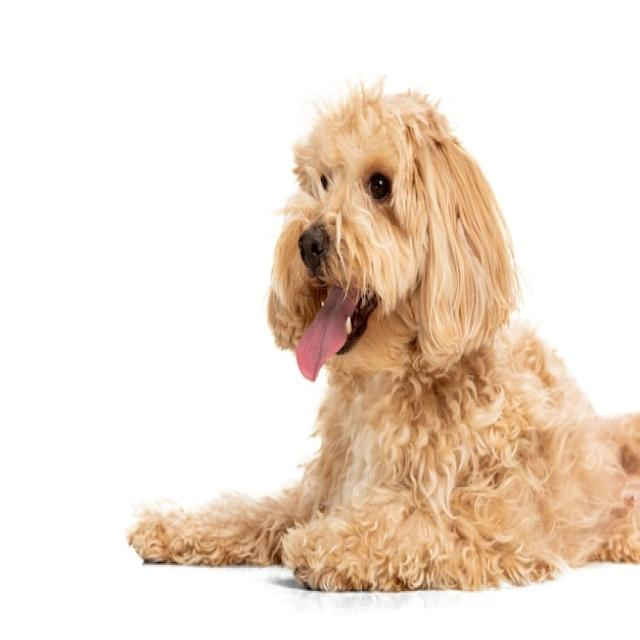Dog: (126, 89, 640, 592)
